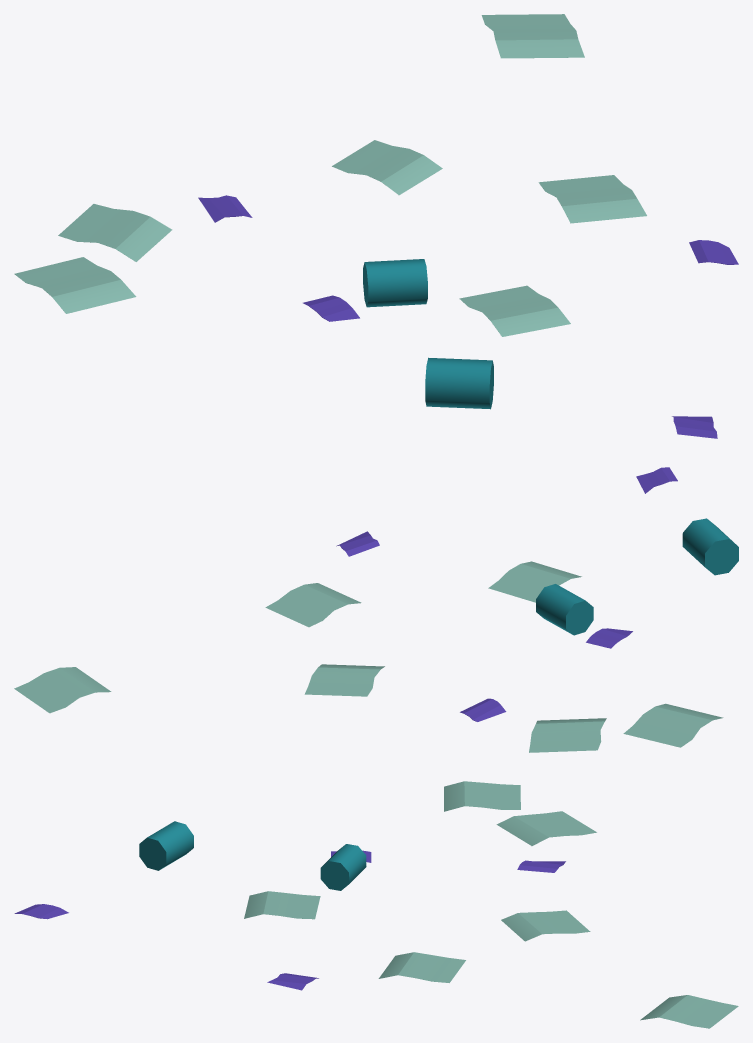
Rendered from TrashPile_Litter_003.fbx.
3 views of the same model, one above another, from view 1: azimuth 30°, elevation 25°; view 2: azimuth 150°, elevation 25°; view 3: azimuth 270°, elevation 25° (orthographic). The views are drawn at different scales.
Visible parts, largest first — view 1: Trash.Paper.003, Trash.Cans.002, TrashPaperSmall.003; view 2: Trash.Paper.003, Trash.Cans.002, TrashPaperSmall.003; view 3: Trash.Paper.003, Trash.Cans.002, TrashPaperSmall.003.
Boxes of the visible parts, left/top/right/bottom form: Trash.Paper.003: left=14, top=14, right=646, bottom=336; Trash.Cans.002: left=363, top=259, right=493, bottom=409; TrashPaperSmall.003: left=198, top=195, right=738, bottom=438; Trash.Paper.003: left=14, top=561, right=723, bottom=752; Trash.Cans.002: left=536, top=518, right=738, bottom=635; TrashPaperSmall.003: left=336, top=467, right=677, bottom=721; Trash.Paper.003: left=244, top=781, right=738, bottom=1028; Trash.Cans.002: left=139, top=821, right=366, bottom=890; TrashPaperSmall.003: left=14, top=850, right=565, bottom=990.
Size of the model in its own units: 184 by 10.63 by 231.
